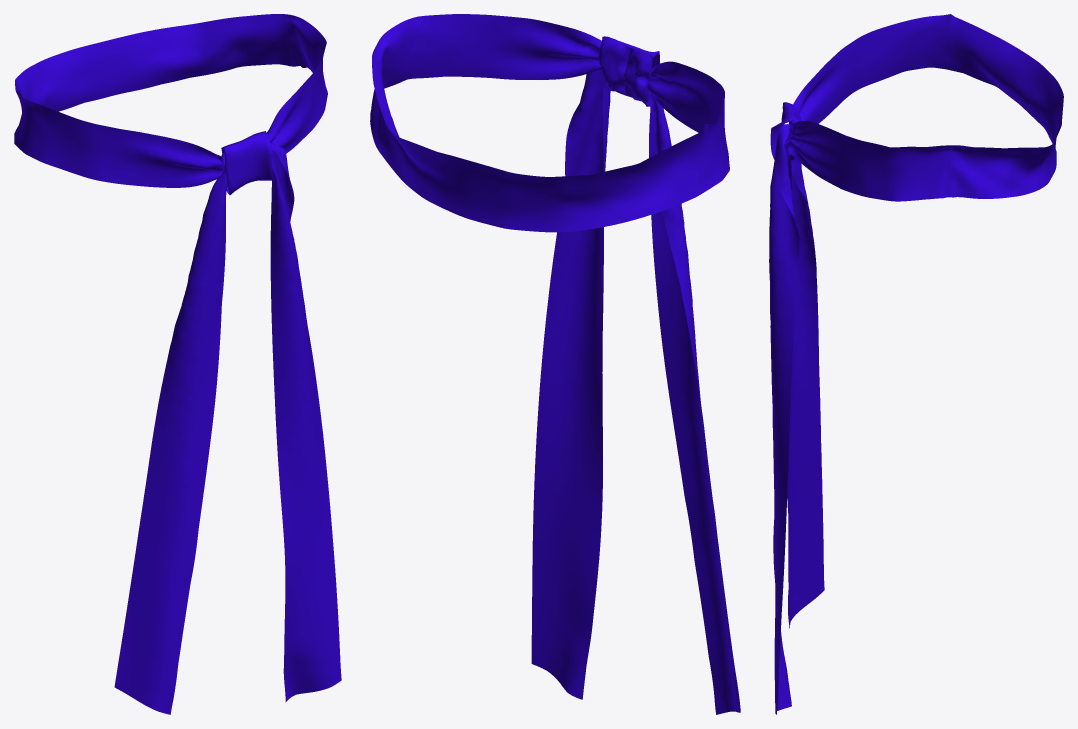
File: belt.glb
3 renders of one model, left to right at view 1: azimuth 30°, elevation 25°; view 2: azimuth 150°, elevation 25°; view 3: azimuth 270°, elevation 25°, orthographic. The views are drawn at different scales.
Parts seen in each view (by area): view 1: belt; view 2: belt; view 3: belt.
Boxes of the visible parts, box(x1,y1,x2,y2) form: belt: box(14, 14, 341, 714); belt: box(370, 14, 740, 714); belt: box(769, 14, 1063, 714).
Size of the model in its own units: 0.8191 by 1.63 by 0.7211.
